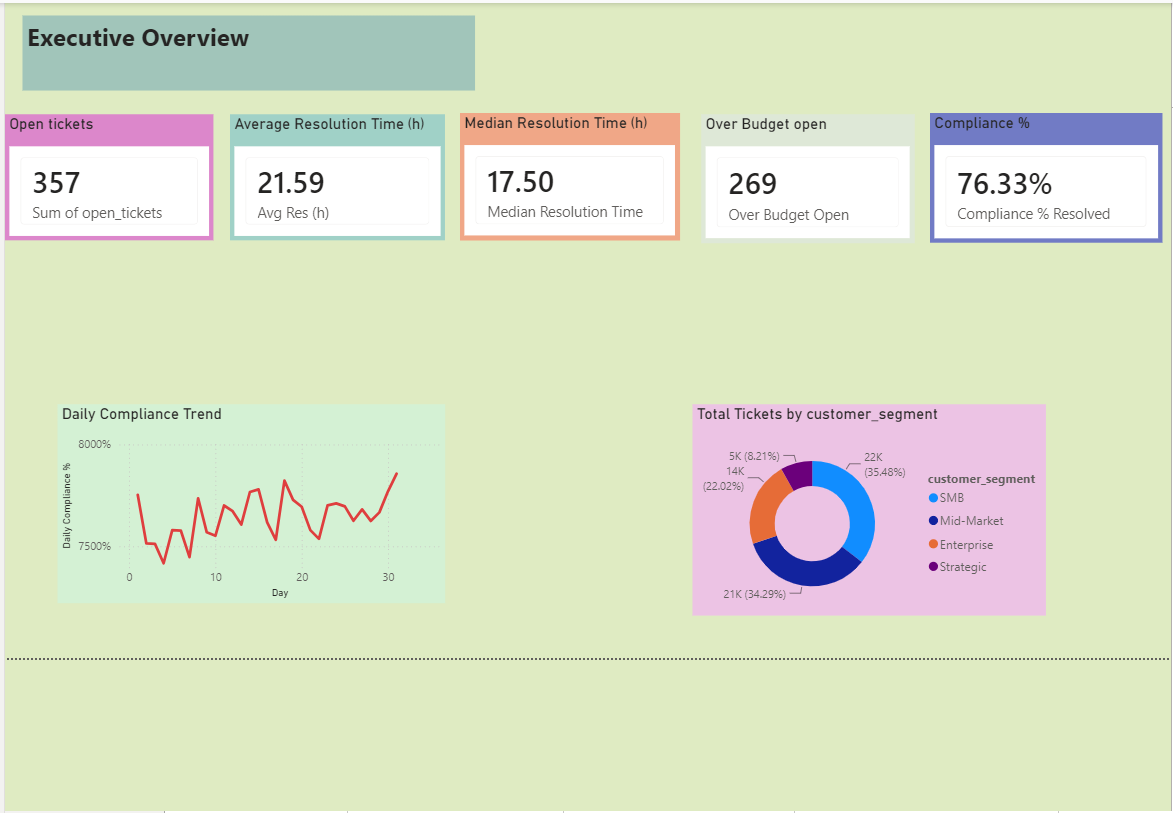

The dashboard page shown, as its layout file describes it:
{"tool":"powerbi","page":{"name":"Executive Overview","canvas":[1280,720],"ordinal":0},"visuals":[{"type":"cardVisual","title":"Median Resolution Time (h)","fields":{"Data":["category_kpi.Median Resolution Time"]},"box":[499.5,120.8,241.5,140],"z":0},{"type":"cardVisual","title":"Average Resolution Time (h)","fields":{"Data":["category_kpi.Avg Res (h)"]},"box":[247,122.1,236,138.6],"z":1000},{"type":"cardVisual","title":"Compliance %","fields":{"Data":["category_kpi.Compliance % Resolved"]},"box":[1015.4,120.8,255.2,142.7],"z":2000},{"type":"lineChart","title":"Daily Compliance Trend","fields":{"Category":["daily_kpi.date.Variation.Date Hierarchy.Day"],"Y":["category_kpi.Daily Compliance %"]},"box":[57.6,440.5,425.4,218.2],"z":3000},{"type":"donutChart","fields":{"Category":["tickets_resolved.customer_segment"],"Y":["category_kpi.Total Tickets"]},"box":[754.7,440.5,388.3,231.9],"z":4000},{"type":"cardVisual","title":"Open tickets","fields":{"Data":["Sum(kpi_summary.open_tickets)"]},"box":[0,122.1,229.2,138.6],"z":5000},{"type":"cardVisual","title":"Over Budget open","fields":{"Data":["category_kpi.Over Budget Open"]},"box":[764.3,122.1,234.6,141.3],"z":6000},{"type":"textbox","box":[19.2,13.7,496.7,82.3],"z":6001}]}

Visuals, with their boxes on the page's 1280x720 design canvas (x1, y1, x2, y2). These are canvas units, not pixel positions in the 1173x813 screenshot, which may show the page scaled, cropped or inside an application window:
"Median Resolution Time (h)" cardVisual: Rect(500, 121, 741, 261)
"Average Resolution Time (h)" cardVisual: Rect(247, 122, 483, 261)
"Compliance %" cardVisual: Rect(1015, 121, 1271, 264)
"Daily Compliance Trend" lineChart: Rect(58, 440, 483, 659)
donutChart - tickets_resolved.customer_segment x category_kpi.Total Tickets: Rect(755, 440, 1143, 672)
"Open tickets" cardVisual: Rect(0, 122, 229, 261)
"Over Budget open" cardVisual: Rect(764, 122, 999, 263)
textbox: Rect(19, 14, 516, 96)
